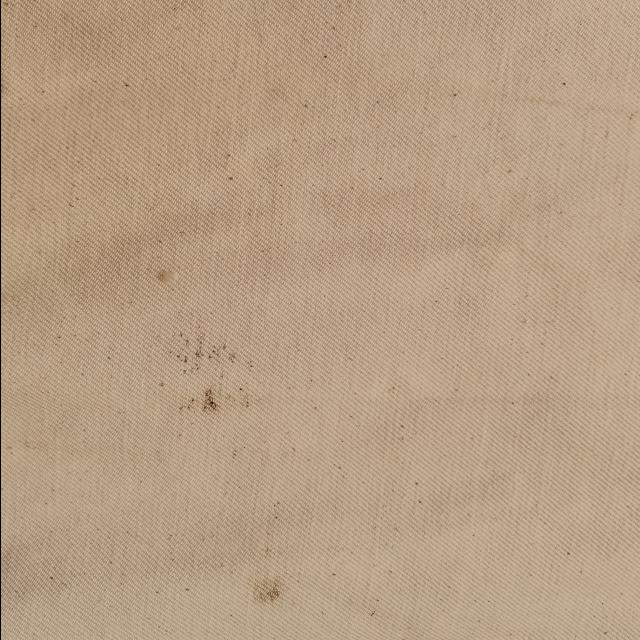taaaches: (156, 330, 270, 420), (240, 572, 304, 604)
